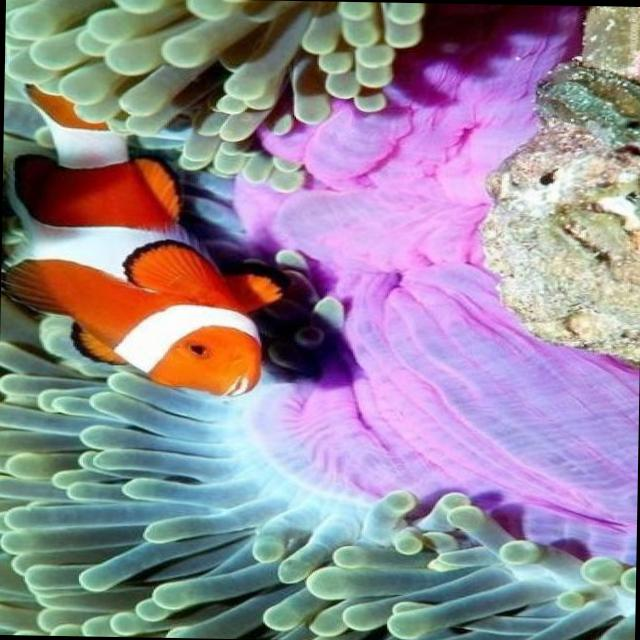ClownFish: (0, 96, 268, 399)
